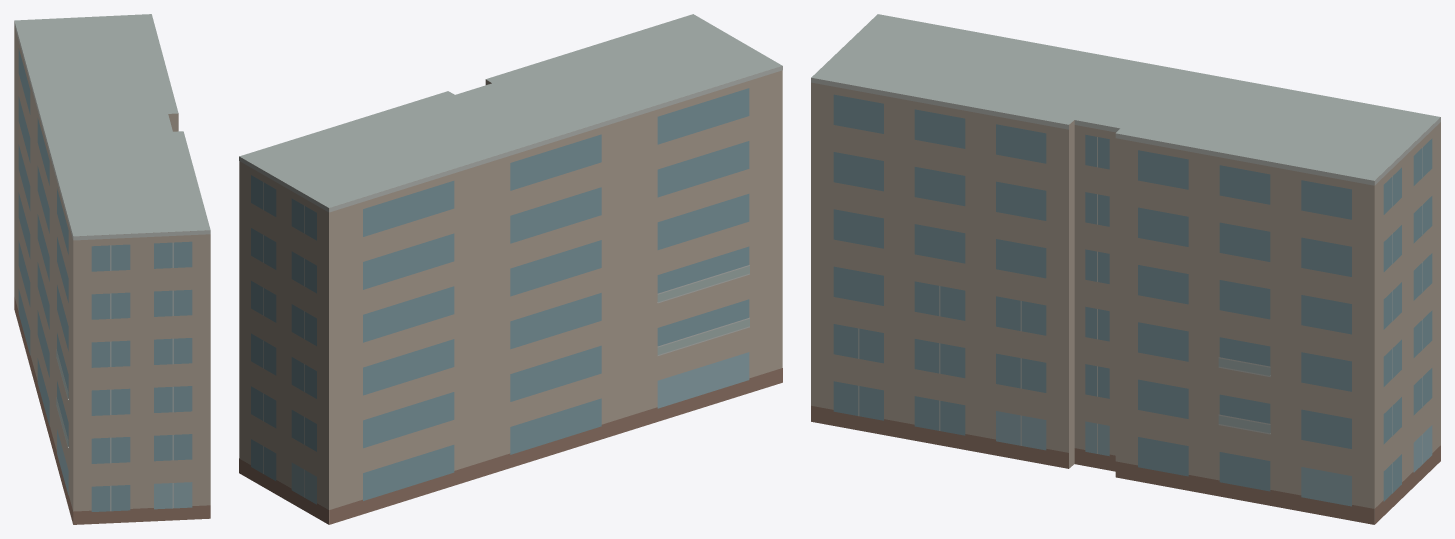
Rendered from survey-upis-33039996.glb.
The picture shows the model from 3 angles, left to right: view 1: azimuth 30°, elevation 25°; view 2: azimuth 150°, elevation 25°; view 3: azimuth 270°, elevation 25°; orthographic projection. The views are drawn at different scales.
Visible parts, largest first — view 1: survey-upis-33039996.tmp; view 2: survey-upis-33039996.tmp; view 3: survey-upis-33039996.tmp.
Part boxes in pixels (x1,y1,x2,y2): survey-upis-33039996.tmp: (14, 14, 210, 524); survey-upis-33039996.tmp: (239, 14, 782, 524); survey-upis-33039996.tmp: (811, 14, 1440, 524).
Size of the model in its own units: 18 by 17.3 by 28.71.
